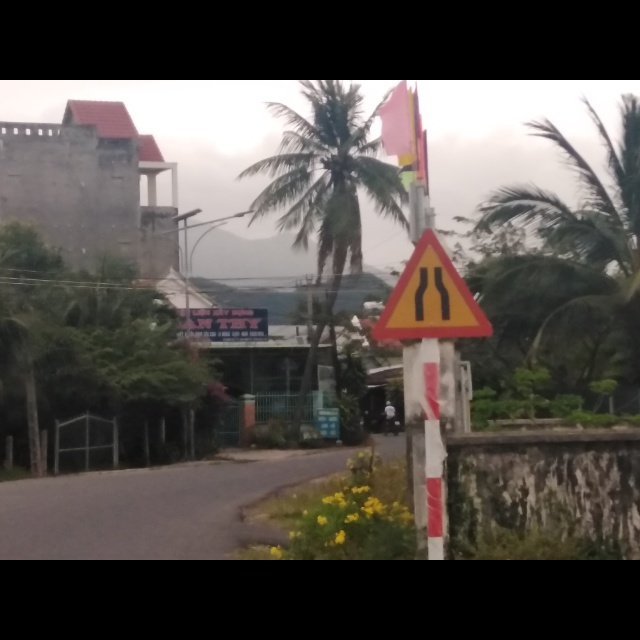Đường bị hẹp cả hai bên: (370, 227, 486, 338)
